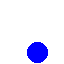circle: (27, 42, 47, 62)
